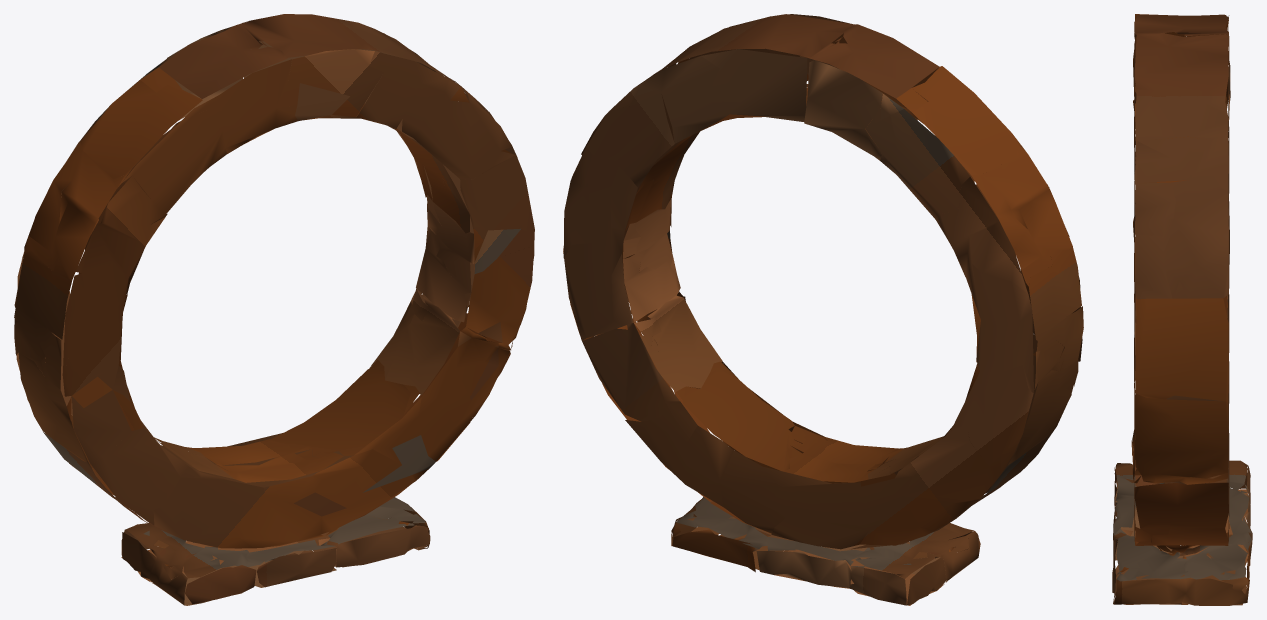
Rendered from corten.glb.
The picture shows the model from 3 angles, left to right: view 1: azimuth 30°, elevation 25°; view 2: azimuth 150°, elevation 25°; view 3: azimuth 270°, elevation 25°; orthographic projection.
Parts seen in each view (by area): view 1: LO.001; view 2: LO.001; view 3: LO.001.
Boxes of the visible parts, <box> form: LO.001: <box>14,14,534,605</box>; LO.001: <box>563,14,1083,605</box>; LO.001: <box>1112,14,1252,605</box>.
Size of the model in its own units: 0.9376 by 0.9788 by 0.2435.
Materials: 1 (1 with a texture image).
